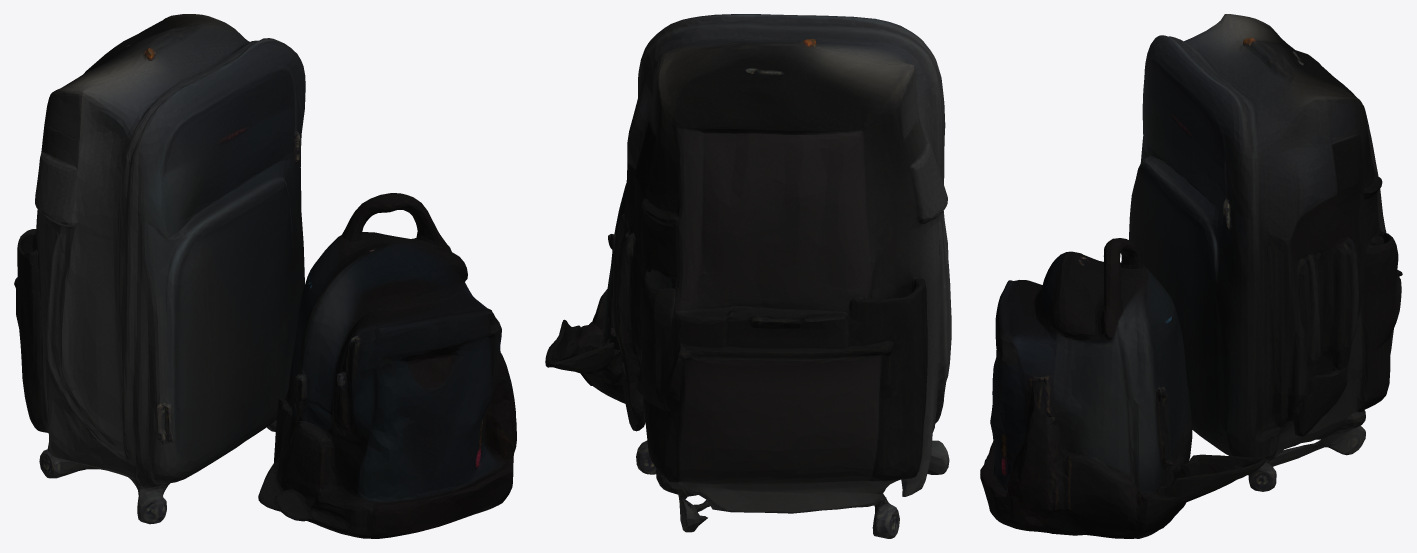
The picture shows the model from 3 angles, left to right: view 1: azimuth 30°, elevation 25°; view 2: azimuth 150°, elevation 25°; view 3: azimuth 270°, elevation 25°; orthographic projection. The views are drawn at different scales.
Parts seen in each view (by area): view 1: world; view 2: world; view 3: world.
Boxes of the visible parts, box(x1,y1,x2,y2) form: world: box(14, 14, 516, 538); world: box(545, 14, 951, 538); world: box(980, 14, 1402, 538).
Bounding box in the file's own units: 0.708 × 0.7429 × 0.7298.
1 material, 1 textured.
